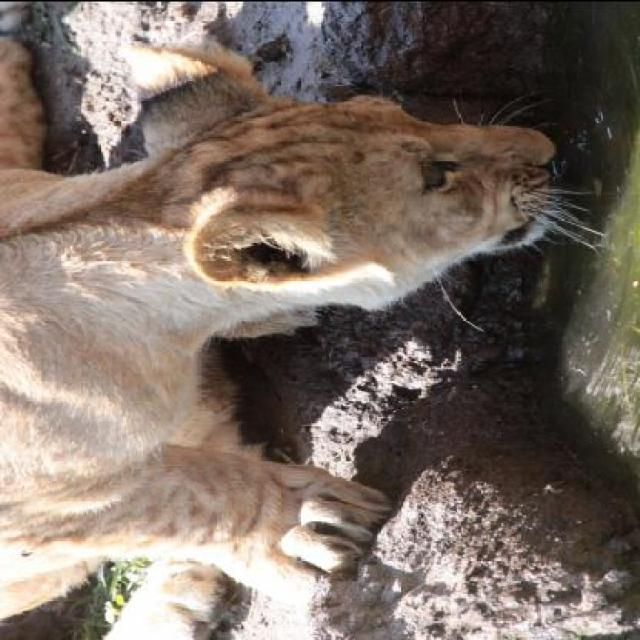Lion: (3, 19, 572, 638)
